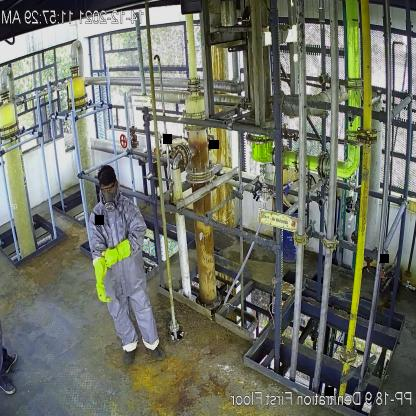goggles: (100, 184, 117, 194)
mask: (102, 191, 118, 213)
